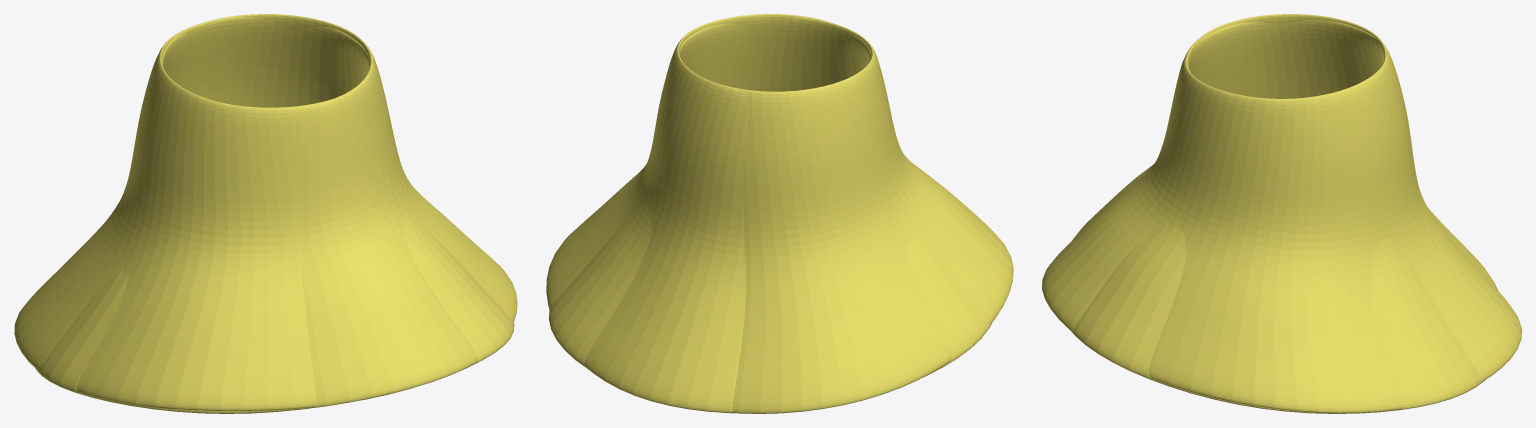
The model's file is pants_model_1.gltf.
3 views of the same model, side by side, from view 1: azimuth 30°, elevation 25°; view 2: azimuth 150°, elevation 25°; view 3: azimuth 270°, elevation 25° (orthographic). The views are drawn at different scales.
Parts seen in each view (by area): view 1: rok; view 2: rok; view 3: rok.
Part boxes in pixels (x1,y1,x2,y2): rok: (14,14,517,413); rok: (546,14,1013,413); rok: (1042,14,1521,413).
Bounding box in the file's own units: 1.27 × 0.8214 × 1.25.
